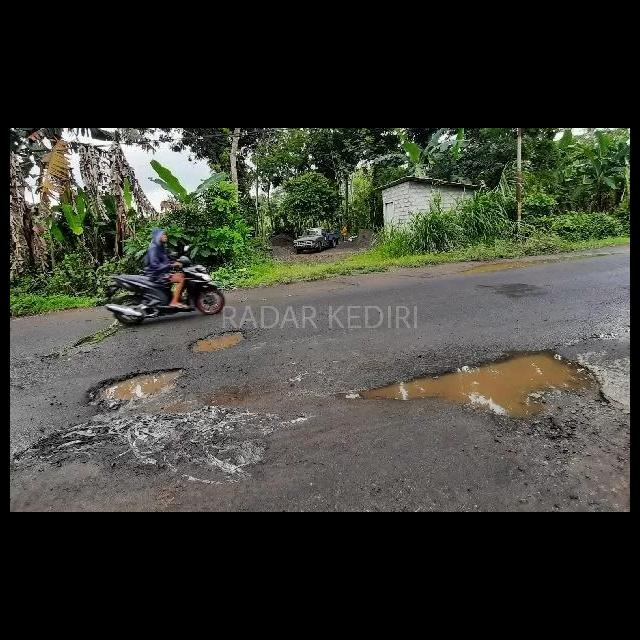lubang_kecil: (320, 326, 615, 448), (66, 362, 204, 410), (180, 323, 246, 361)
